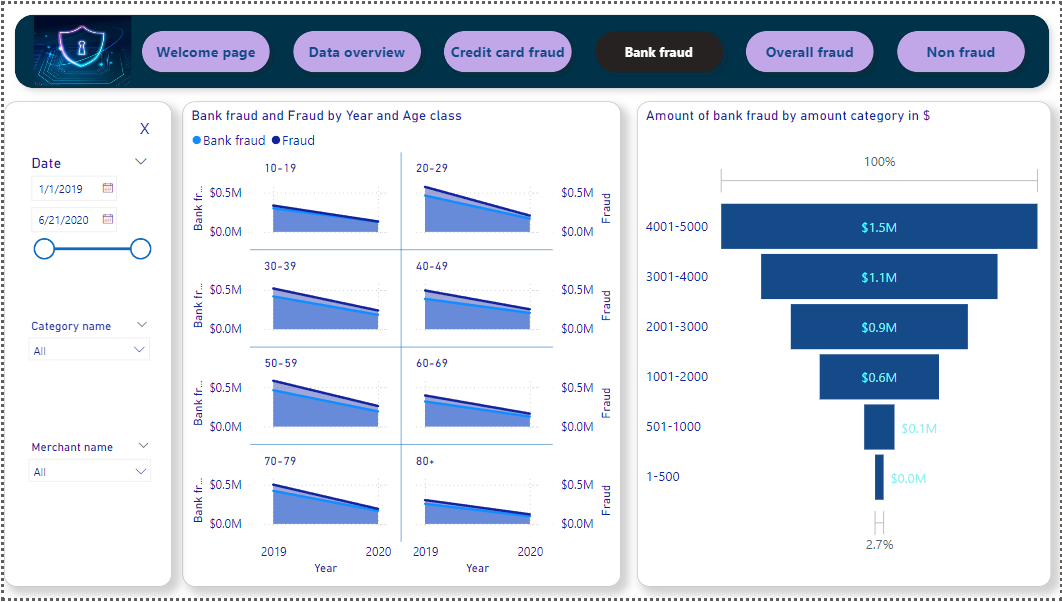

This screenshot's page, from the dashboard's own definition file:
{"tool":"powerbi","page":{"name":"Bank fraud","canvas":[1280,720],"ordinal":3},"visuals":[{"type":"actionButton","box":[0,0,1280,115],"z":0,"group":"g2"},{"type":"image","box":[30,9,128,95],"z":1000,"group":"g2"},{"type":"pageNavigator","box":[158.3,23.3,1090,68.3],"z":1500,"group":"g2"},{"type":"actionButton","box":[0,117.5,203.5,587.7],"z":2000,"group":"g1"},{"type":"areaChart","fields":{"Category":["Calendar.Date.Variation.Date Hierarchy.Year","Calendar.Date.Variation.Date Hierarchy.Month"],"Y":["fraud_dwh f_transaction.amount of bank fraud"],"Y2":["fraud_dwh f_transaction.amount of fraud"],"Rows":["fraud_dwh f_transaction.age_category"]},"box":[215.8,117.5,531.6,587.7],"z":2000},{"type":"group","id":"g1","title":"Group 2","box":[0,117.5,203.5,587.7],"z":3000},{"type":"slicer","fields":{"Values":["Calendar.Date"]},"box":[20,175.7,166.4,166.3],"z":3000,"group":"g1"},{"type":"funnel","title":"Amount of bank fraud by amount category in $","fields":{"Category":["fraud_dwh f_transaction.amount_category"],"Y":["fraud_dwh f_transaction.amount of bank fraud"]},"box":[766.7,117.5,501.8,587.7],"z":4000},{"type":"slicer","fields":{"Values":["fraud_dwh d_merchant.merchant_name"]},"box":[19.4,523.4,168,88.8],"z":5000,"group":"g1"},{"type":"group","id":"g2","title":"Group 1","box":[0,0,1280,115],"z":5001},{"type":"slicer","fields":{"Values":["fraud_dwh d_category.category_name"]},"box":[19.4,374.9,166.4,93.6],"z":7000,"group":"g1"},{"type":"actionButton","box":[147.3,123,47,50.2],"z":7500,"group":"g1"}]}

Visuals, with their boxes in screenshot pixels (x1, y1, x2, y2), scaled from the page's 1280x720 canvas onto the 1062x602 screenshot:
actionButton: <bbox>0, 0, 1061, 96</bbox>
image: <bbox>25, 8, 131, 87</bbox>
pageNavigator: <bbox>131, 19, 1036, 77</bbox>
actionButton: <bbox>0, 98, 169, 590</bbox>
areaChart - Calendar.Date.Variation.Date Hierarchy.Year x Calendar.Date.Variation.Date Hierarchy.Month: <bbox>179, 98, 620, 590</bbox>
"Group 2" group: <bbox>0, 98, 169, 590</bbox>
slicer - Calendar.Date: <bbox>17, 147, 155, 286</bbox>
"Amount of bank fraud by amount category in $" funnel: <bbox>636, 98, 1052, 590</bbox>
slicer - fraud_dwh d_merchant.merchant_name: <bbox>16, 438, 155, 512</bbox>
"Group 1" group: <bbox>0, 0, 1061, 96</bbox>
slicer - fraud_dwh d_category.category_name: <bbox>16, 313, 154, 392</bbox>
actionButton: <bbox>122, 103, 161, 145</bbox>
